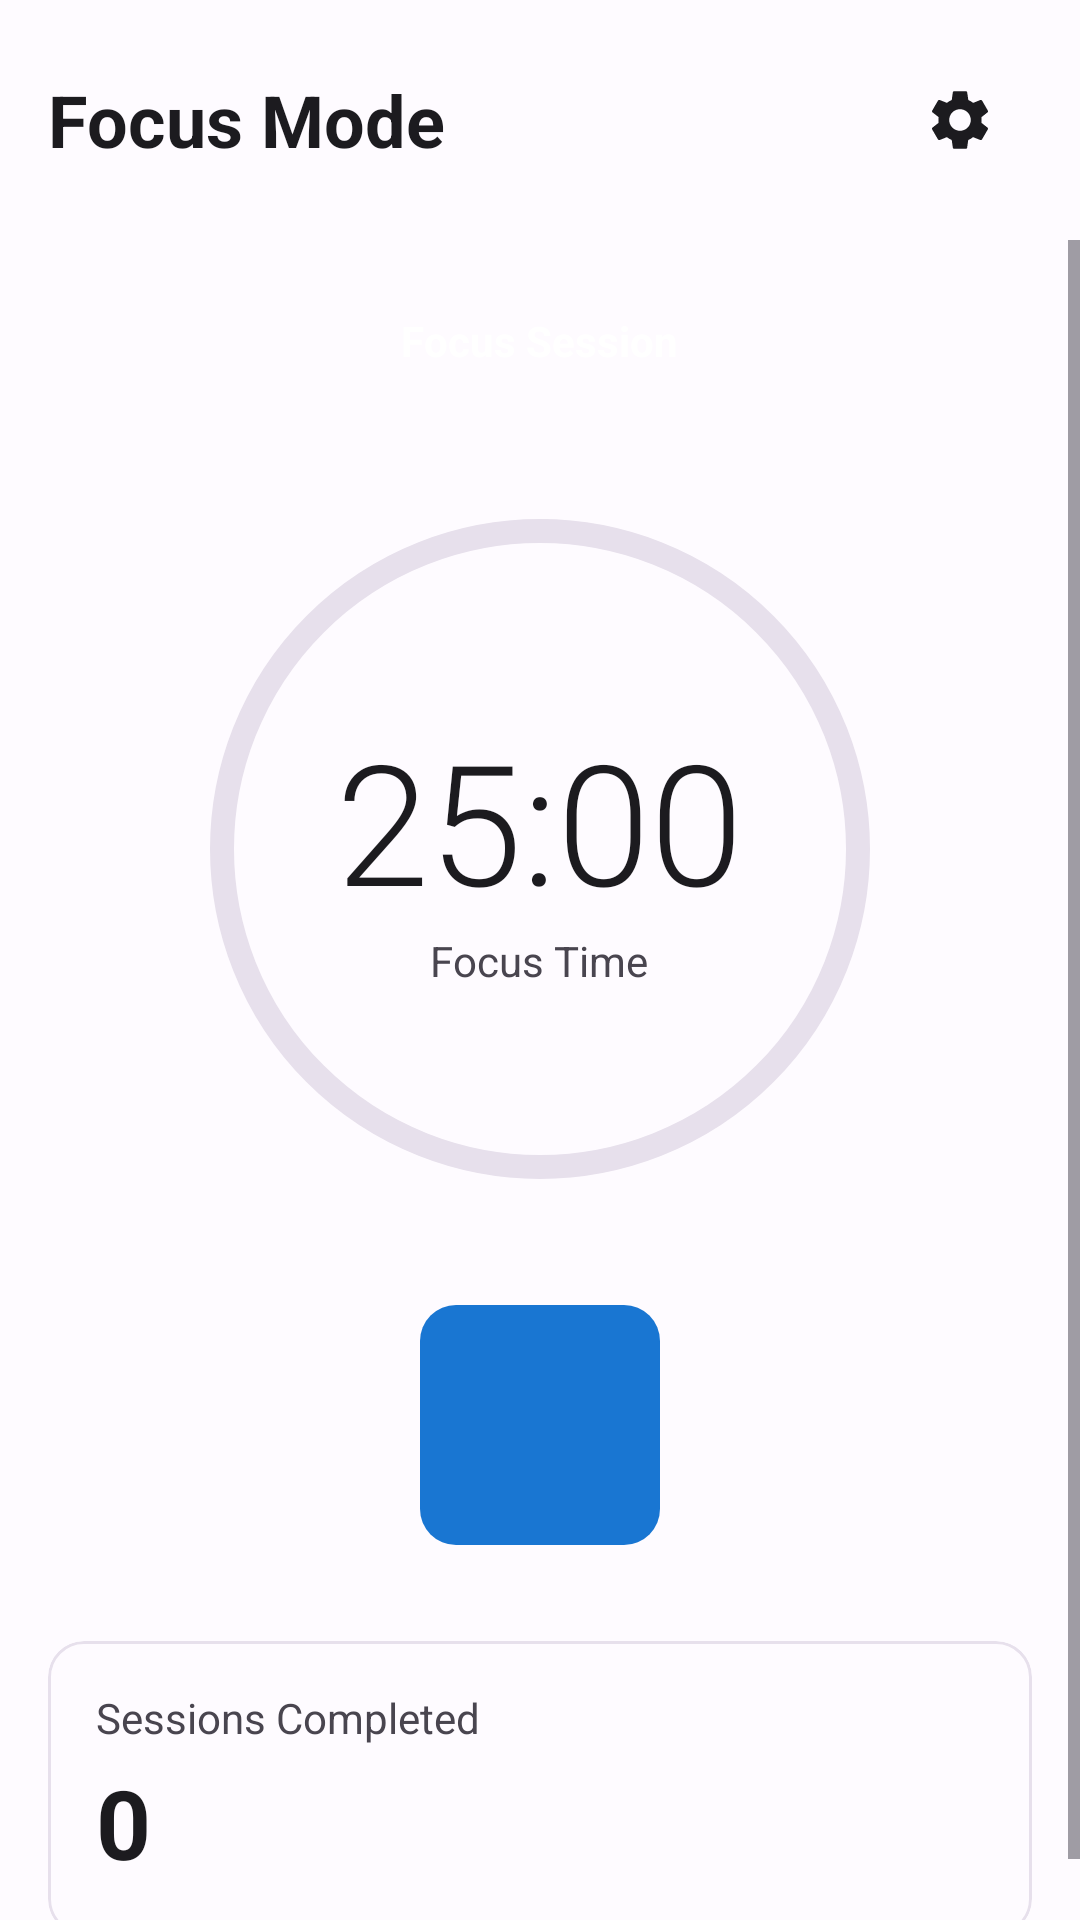

Screen size 1080×1920. Icon name, then its box in pixels as {"left": x1, "top": y1, "right": x2, "bottom": y2}:
Pomodoro Settings: {"left": 932, "top": 91, "right": 988, "bottom": 149}
